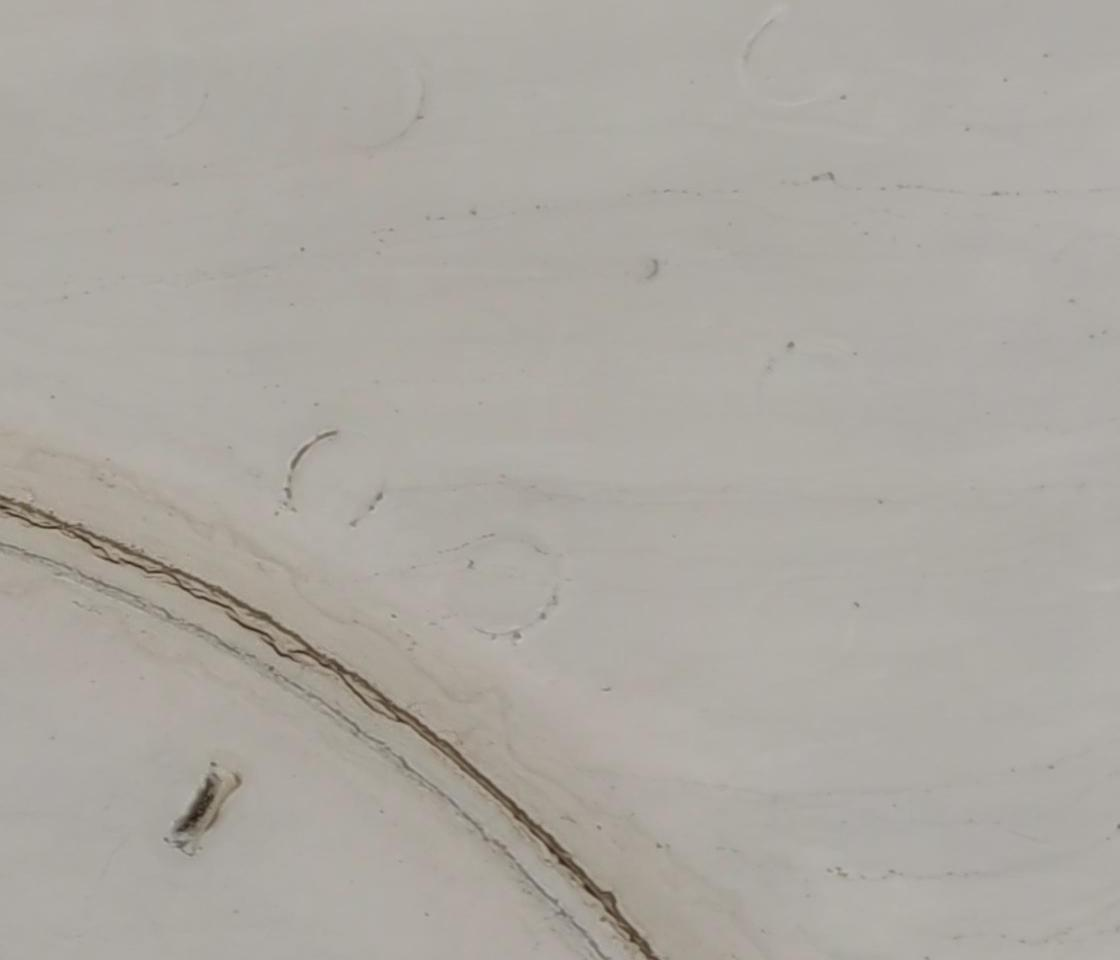scratch: (270, 418, 338, 512)
